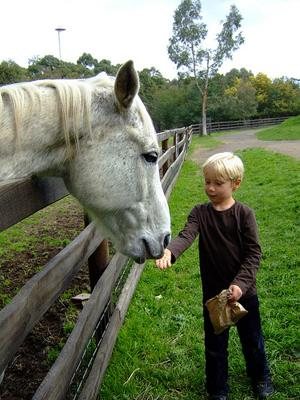person: (158, 148, 271, 398)
